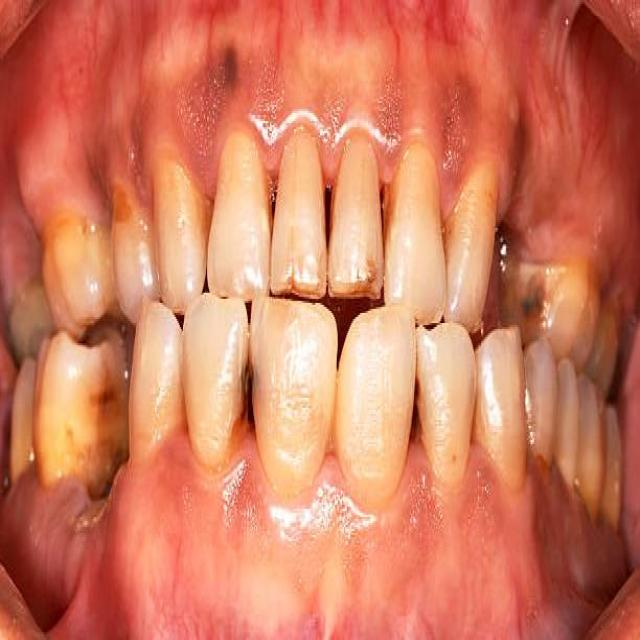redness: (178, 80, 224, 169), (252, 52, 287, 134), (442, 86, 474, 171)
swelling: (317, 94, 344, 196), (404, 92, 436, 172), (317, 446, 345, 508)
